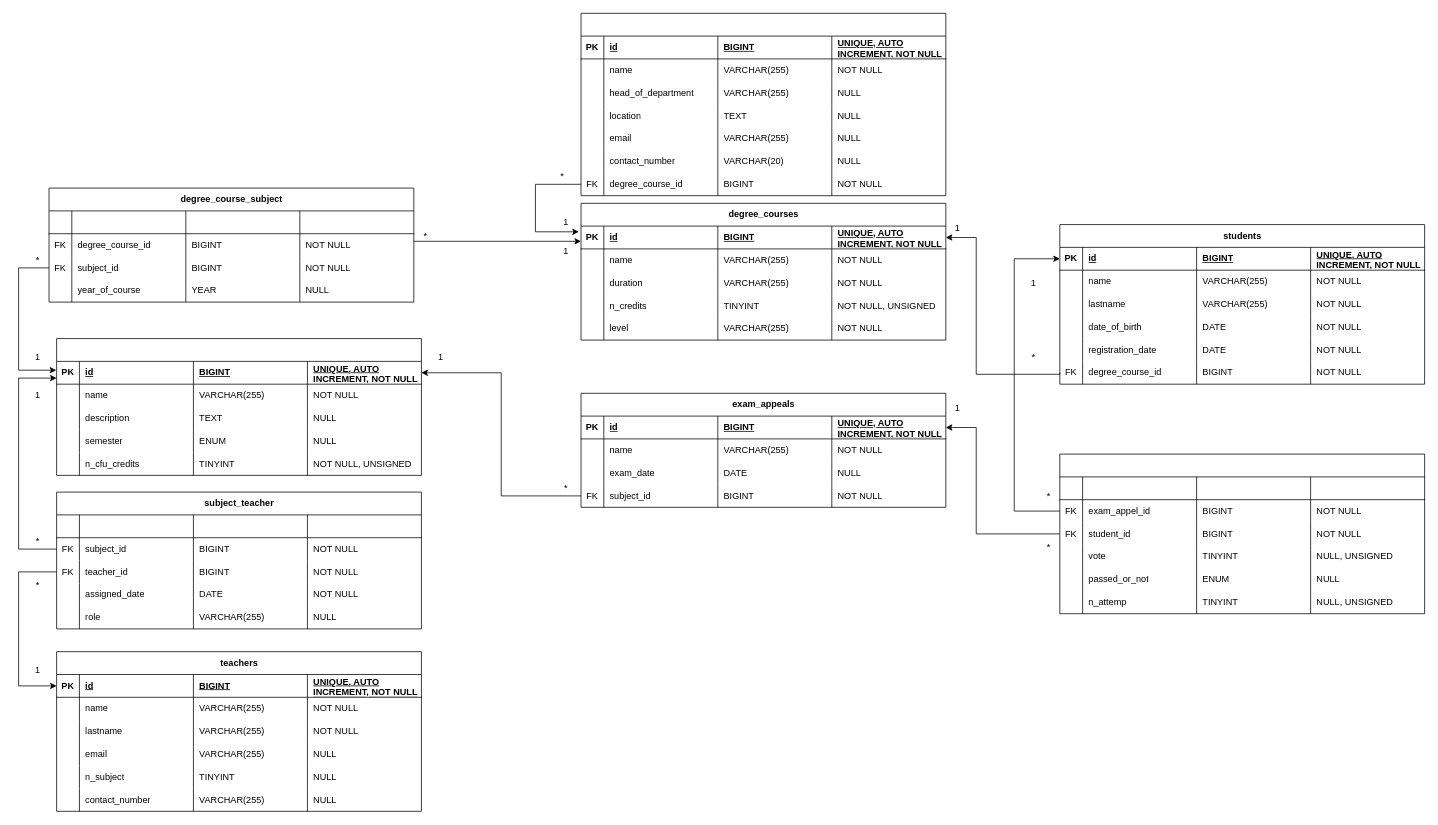
Image size: 1438x825. Some labels were removed from this diagram. Each missing label, with the box of its shape:
departments: (580, 13, 946, 196)
exam_result: (1059, 453, 1425, 614)
subjects: (56, 338, 421, 475)
